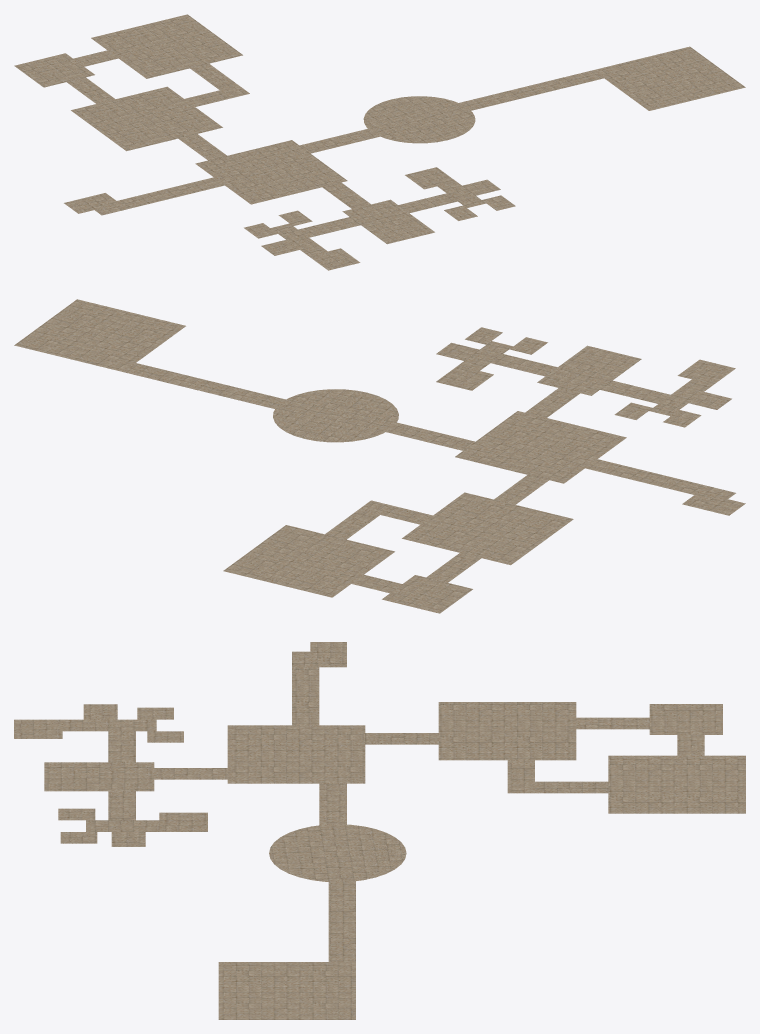
File: Level2Ground.fbx
The picture shows the model from 3 angles, top to bottom: view 1: azimuth 30°, elevation 25°; view 2: azimuth 150°, elevation 25°; view 3: azimuth 270°, elevation 25°; orthographic projection. The views are drawn at different scales.
Parts seen in each view (by area): view 1: Level2Ground; view 2: Level2Ground; view 3: Level2Ground.
Part boxes in pixels (x1,y1,x2,y2): Level2Ground: (14, 14, 745, 270); Level2Ground: (14, 299, 745, 613); Level2Ground: (14, 642, 745, 1019).
Bounding box in the file's own units: 97.5 × 0 × 79.8.
